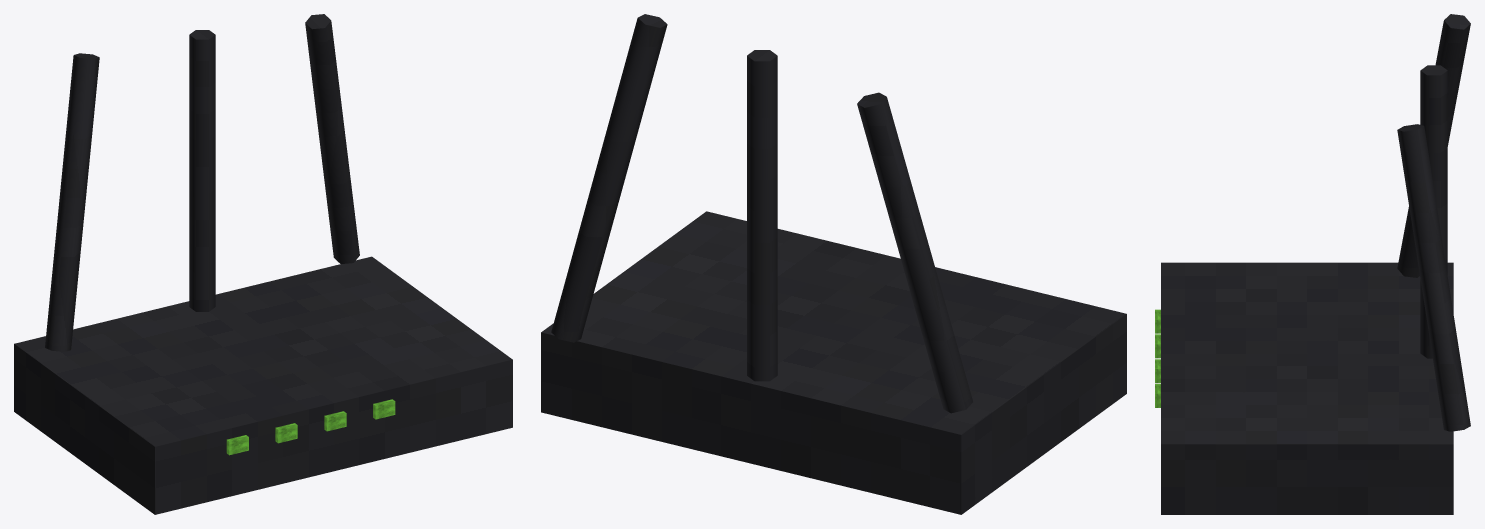
The model's file is tfg_router.glb.
The picture shows the model from 3 angles, left to right: view 1: azimuth 30°, elevation 25°; view 2: azimuth 150°, elevation 25°; view 3: azimuth 270°, elevation 25°; orthographic projection. The views are drawn at different scales.
Parts seen in each view (by area): view 1: tfg_router; view 2: tfg_router; view 3: tfg_router.
Boxes of the visible parts, x1,y1,x2,y2 form: tfg_router: [14, 14, 512, 514]; tfg_router: [541, 14, 1126, 514]; tfg_router: [1155, 14, 1470, 514].
Size of the model in its own units: 0.22 by 0.2 by 0.1619.
2 materials, 2 textured.
